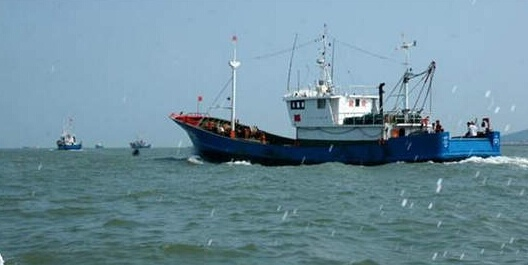otherboat: (163, 31, 501, 171), (59, 119, 83, 154)
